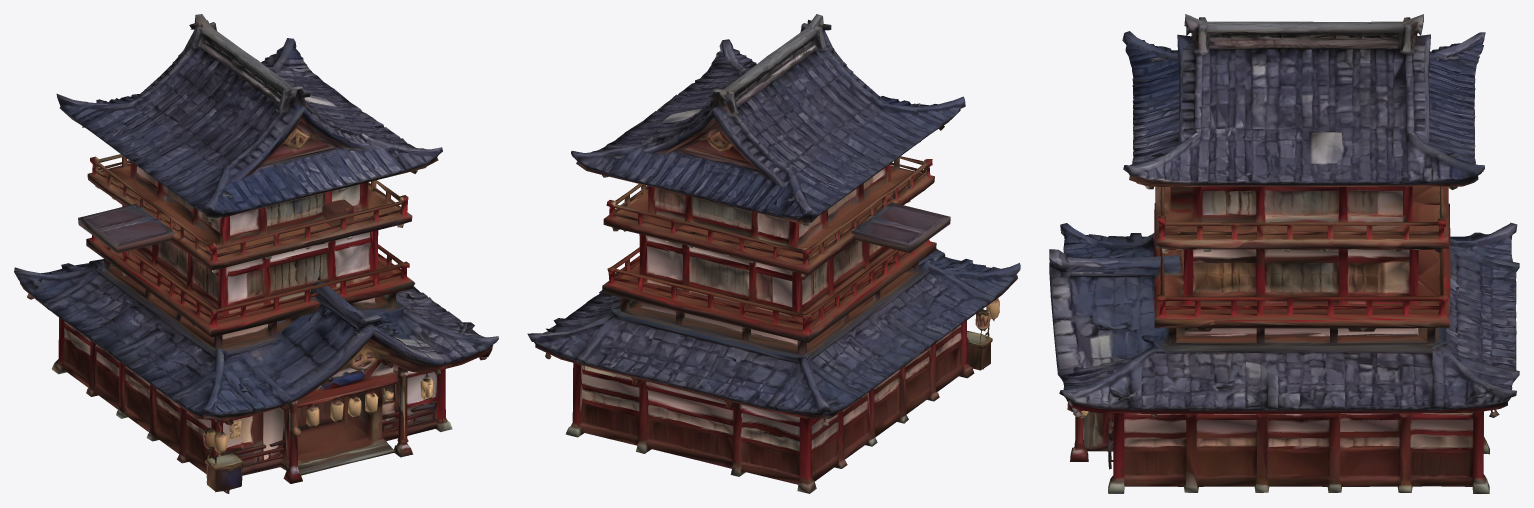
File: bld_japan_theatre.fbx
3 views of the same model, side by side, from view 1: azimuth 30°, elevation 25°; view 2: azimuth 150°, elevation 25°; view 3: azimuth 270°, elevation 25° (orthographic). The views are drawn at different scales.
Visible parts, largest first — view 1: bld_japan_theatre_LOD0; view 2: bld_japan_theatre_LOD0; view 3: bld_japan_theatre_LOD0.
Boxes of the visible parts, x1,y1,x2,y2 form: bld_japan_theatre_LOD0: [14, 14, 498, 493]; bld_japan_theatre_LOD0: [527, 14, 1020, 493]; bld_japan_theatre_LOD0: [1049, 14, 1519, 493].
Size of what is drawn, in the model's own units: 0.8746 by 0.9424 by 0.9804.
